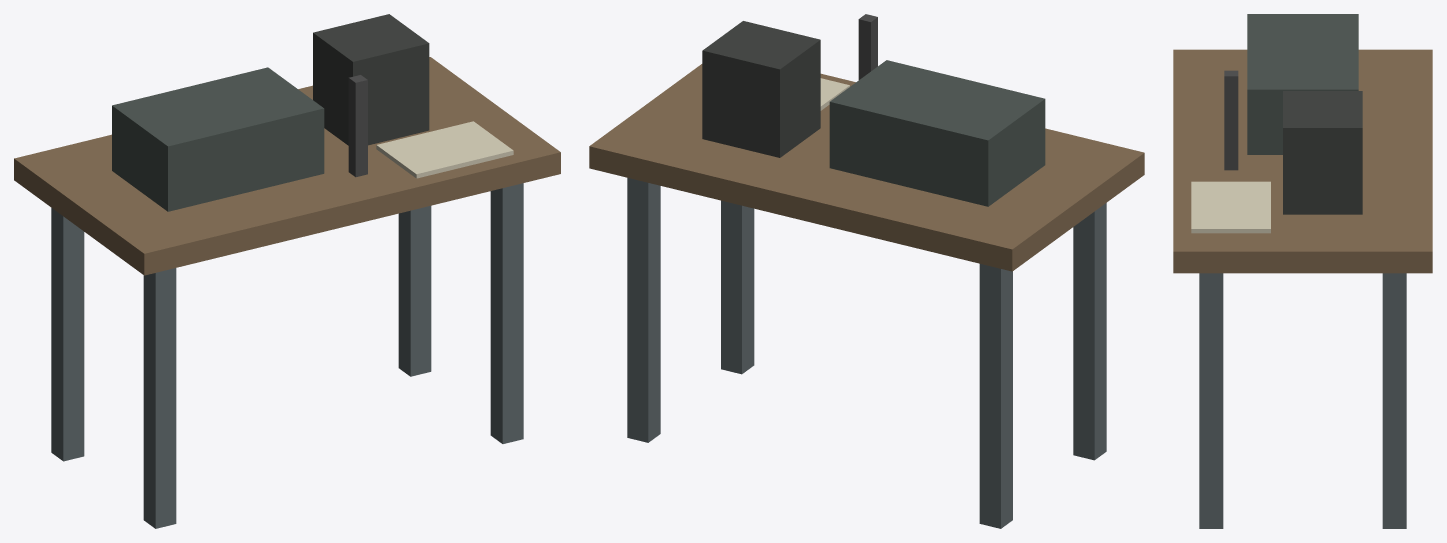
File: radio-desk.glb
The picture shows the model from 3 angles, left to right: view 1: azimuth 30°, elevation 25°; view 2: azimuth 150°, elevation 25°; view 3: azimuth 270°, elevation 25°; orthographic projection. The views are drawn at different scales.
Parts seen in each view (by area): view 1: VP_LB_DeskTop, VP_LB_Radio, VP_LB_Speaker, VP_LB_LegB, VP_LB_LegA, VP_LB_LegC, VP_LB_LegD, VP_LB_Paper, VP_LB_Microphone; view 2: VP_LB_DeskTop, VP_LB_Radio, VP_LB_Speaker, VP_LB_LegC, VP_LB_LegD, VP_LB_LegA, VP_LB_LegB, VP_LB_Microphone; view 3: VP_LB_DeskTop, VP_LB_Radio, VP_LB_Speaker, VP_LB_LegB, VP_LB_LegD, VP_LB_Paper, VP_LB_Microphone.
Part boxes in pixels (x1,y1,x2,y2): VP_LB_DeskTop: (14,57,560,275); VP_LB_Radio: (112,67,324,211); VP_LB_Speaker: (313,14,429,145); VP_LB_LegB: (490,183,523,443); VP_LB_LegA: (143,268,176,528); VP_LB_LegC: (51,208,84,461); VP_LB_LegD: (398,206,431,376); VP_LB_Paper: (376,121,513,178); VP_LB_Microphone: (348,75,367,177); VP_LB_DeskTop: (589,64,1144,271); VP_LB_Radio: (829,60,1045,206); VP_LB_Speaker: (702,21,820,157); VP_LB_LegC: (979,264,1012,528); VP_LB_LegD: (627,177,660,442); VP_LB_LegA: (1073,203,1106,460); VP_LB_LegB: (721,200,754,374); VP_LB_Microphone: (858,14,877,79); VP_LB_DeskTop: (1173,49,1432,273); VP_LB_Radio: (1247,14,1358,154); VP_LB_Speaker: (1283,91,1362,214); VP_LB_LegB: (1199,273,1223,528); VP_LB_LegD: (1382,273,1406,528); VP_LB_Paper: (1191,181,1270,233); VP_LB_Microphone: (1224,70,1238,170).
Bounding box in the file's own units: 1.2 × 1.06 × 0.65.
